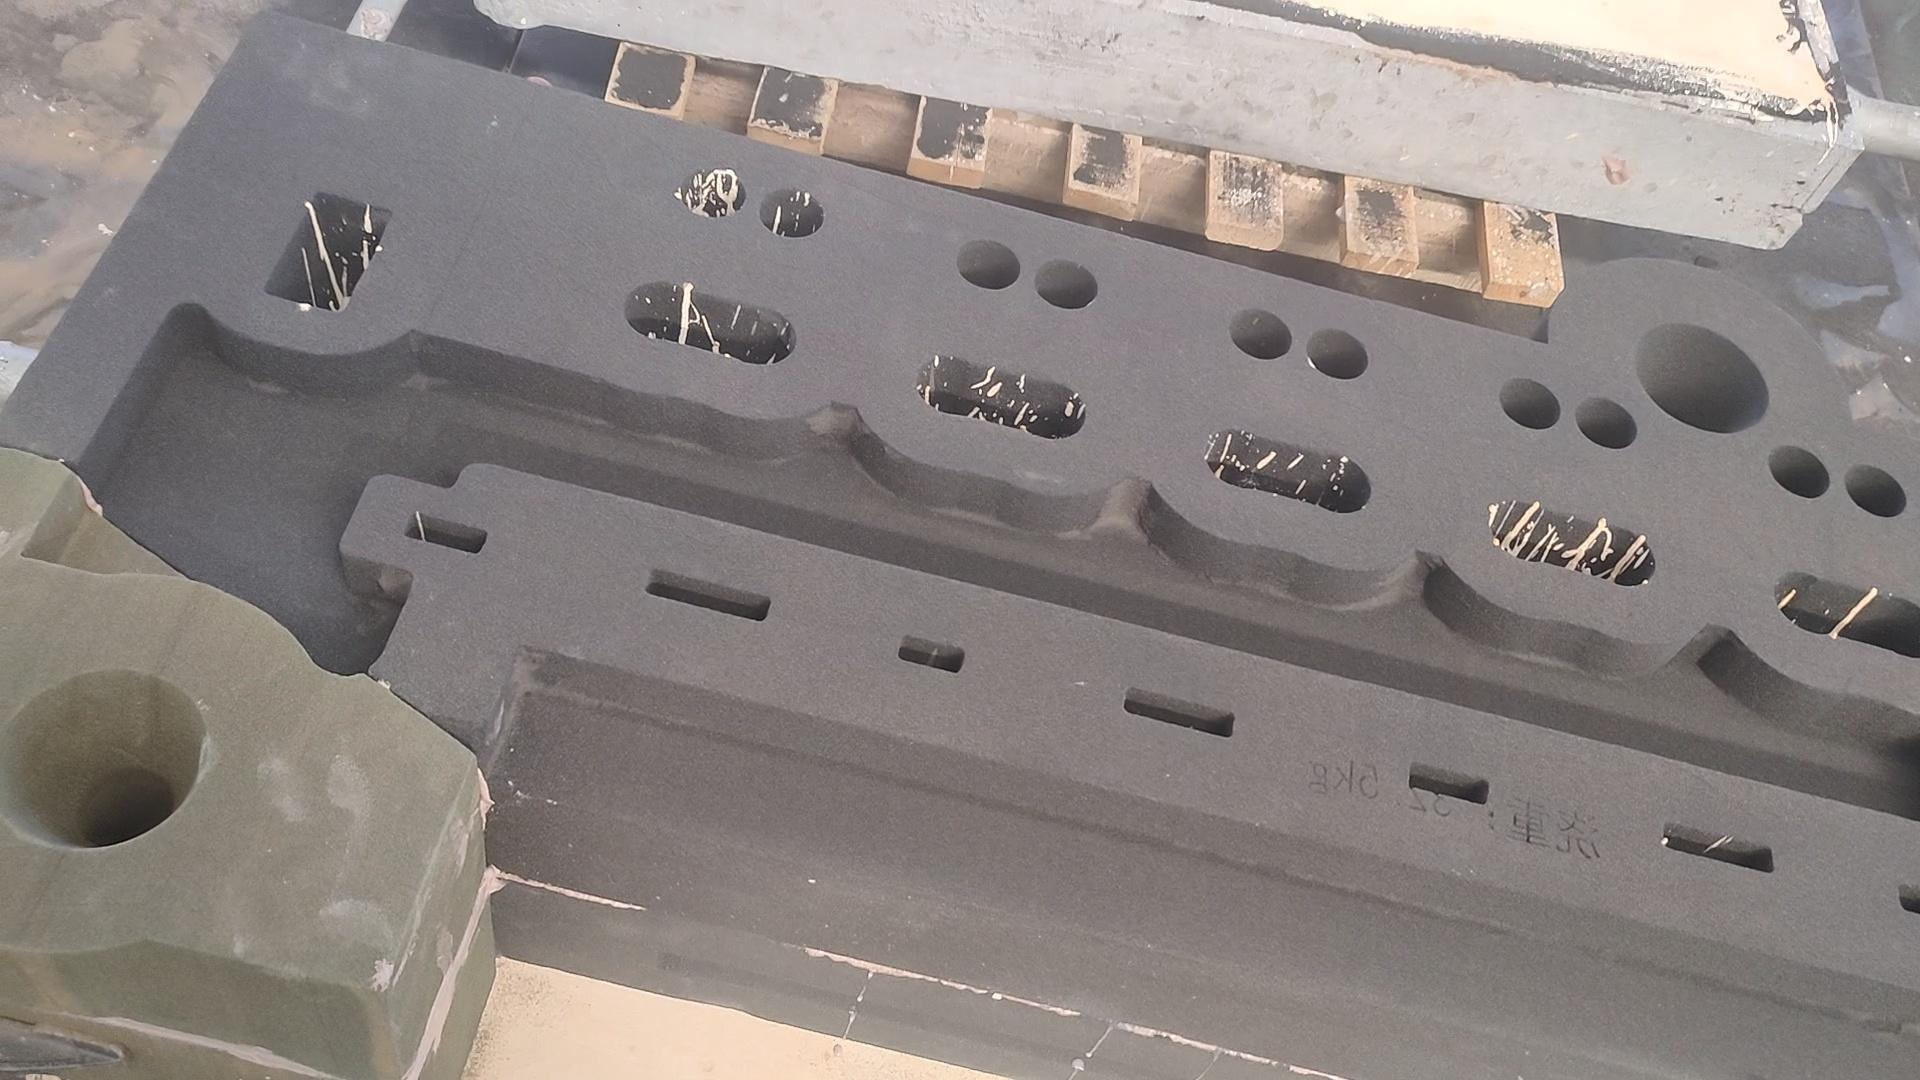pouring hole: (1, 659, 204, 851), (1633, 323, 1770, 433)
